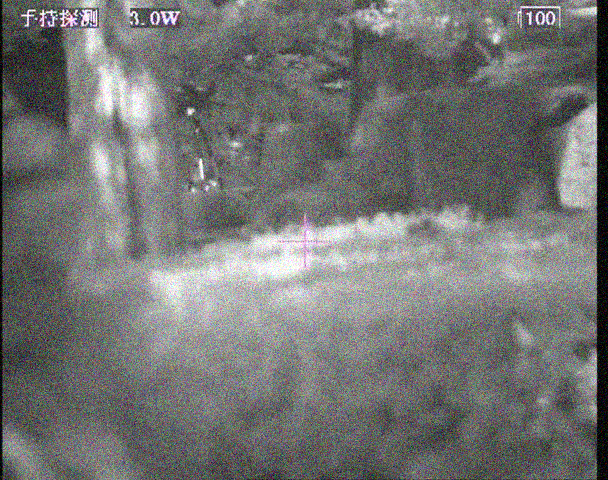my: (186, 107, 195, 117)
